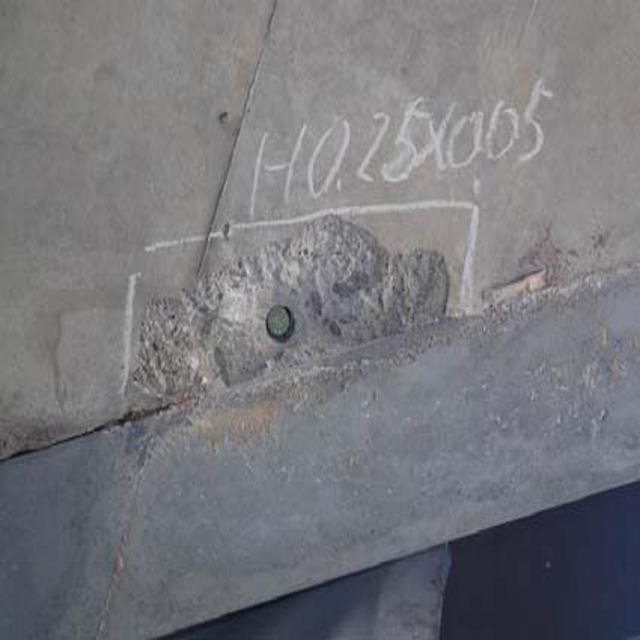spalling: (128, 193, 468, 407)
